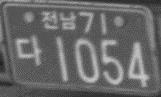0: (73, 36, 100, 84)
1: (54, 34, 70, 83), (98, 11, 109, 36)
4: (125, 40, 151, 88)
5: (99, 38, 124, 86)
7: (78, 10, 95, 35)
다: (13, 34, 42, 68)
전남_O: (39, 9, 77, 30)
